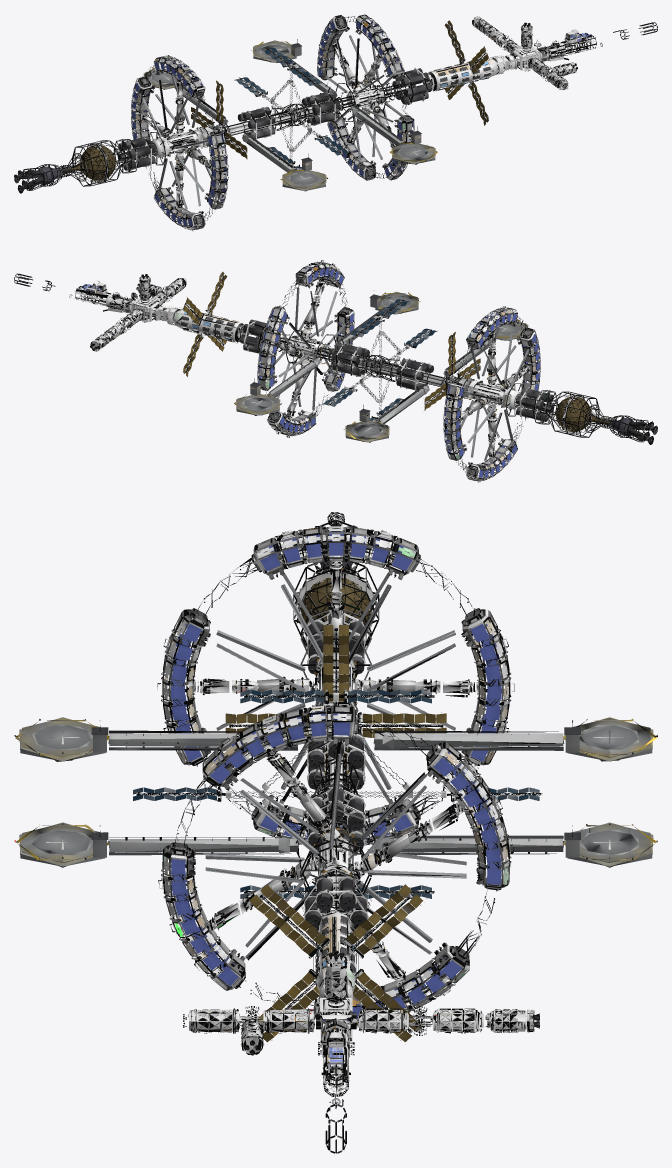
The model's file is station_fab.glb.
The picture shows the model from 3 angles, top to bottom: view 1: azimuth 30°, elevation 25°; view 2: azimuth 150°, elevation 25°; view 3: azimuth 270°, elevation 25°; orthographic projection. The views are drawn at different scales.
Visible parts, largest first — view 1: FABX_Low_0, FABX_Low_3, FABX_Low_4, FABX_Low_1, FABX_Low_2; view 2: FABX_Low_0, FABX_Low_3, FABX_Low_4, FABX_Low_1, FABX_Low_2; view 3: FABX_Low_4, FABX_Low_3, FABX_Low_0, FABX_Low_1, FABX_Low_2.
Boxes of the visible parts, left/top/right/bottom form: FABX_Low_0: left=14, top=29, right=602, bottom=231; FABX_Low_3: left=302, top=14, right=548, bottom=180; FABX_Low_4: left=142, top=20, right=657, bottom=191; FABX_Low_1: left=24, top=24, right=577, bottom=223; FABX_Low_2: left=22, top=16, right=559, bottom=190; FABX_Low_0: left=69, top=280, right=657, bottom=482; FABX_Low_3: left=125, top=260, right=369, bottom=437; FABX_Low_4: left=14, top=271, right=528, bottom=442; FABX_Low_1: left=104, top=276, right=647, bottom=475; FABX_Low_2: left=90, top=274, right=648, bottom=442; FABX_Low_4: left=14, top=717, right=657, bottom=1153; FABX_Low_3: left=158, top=704, right=513, bottom=1028; FABX_Low_0: left=157, top=512, right=514, bottom=1105; FABX_Low_1: left=173, top=517, right=499, bottom=1055; FABX_Low_2: left=133, top=519, right=542, bottom=1038.
Bounding box in the file's own units: 264 × 65.39 × 118.
Materials: 1 (1 with a texture image).
